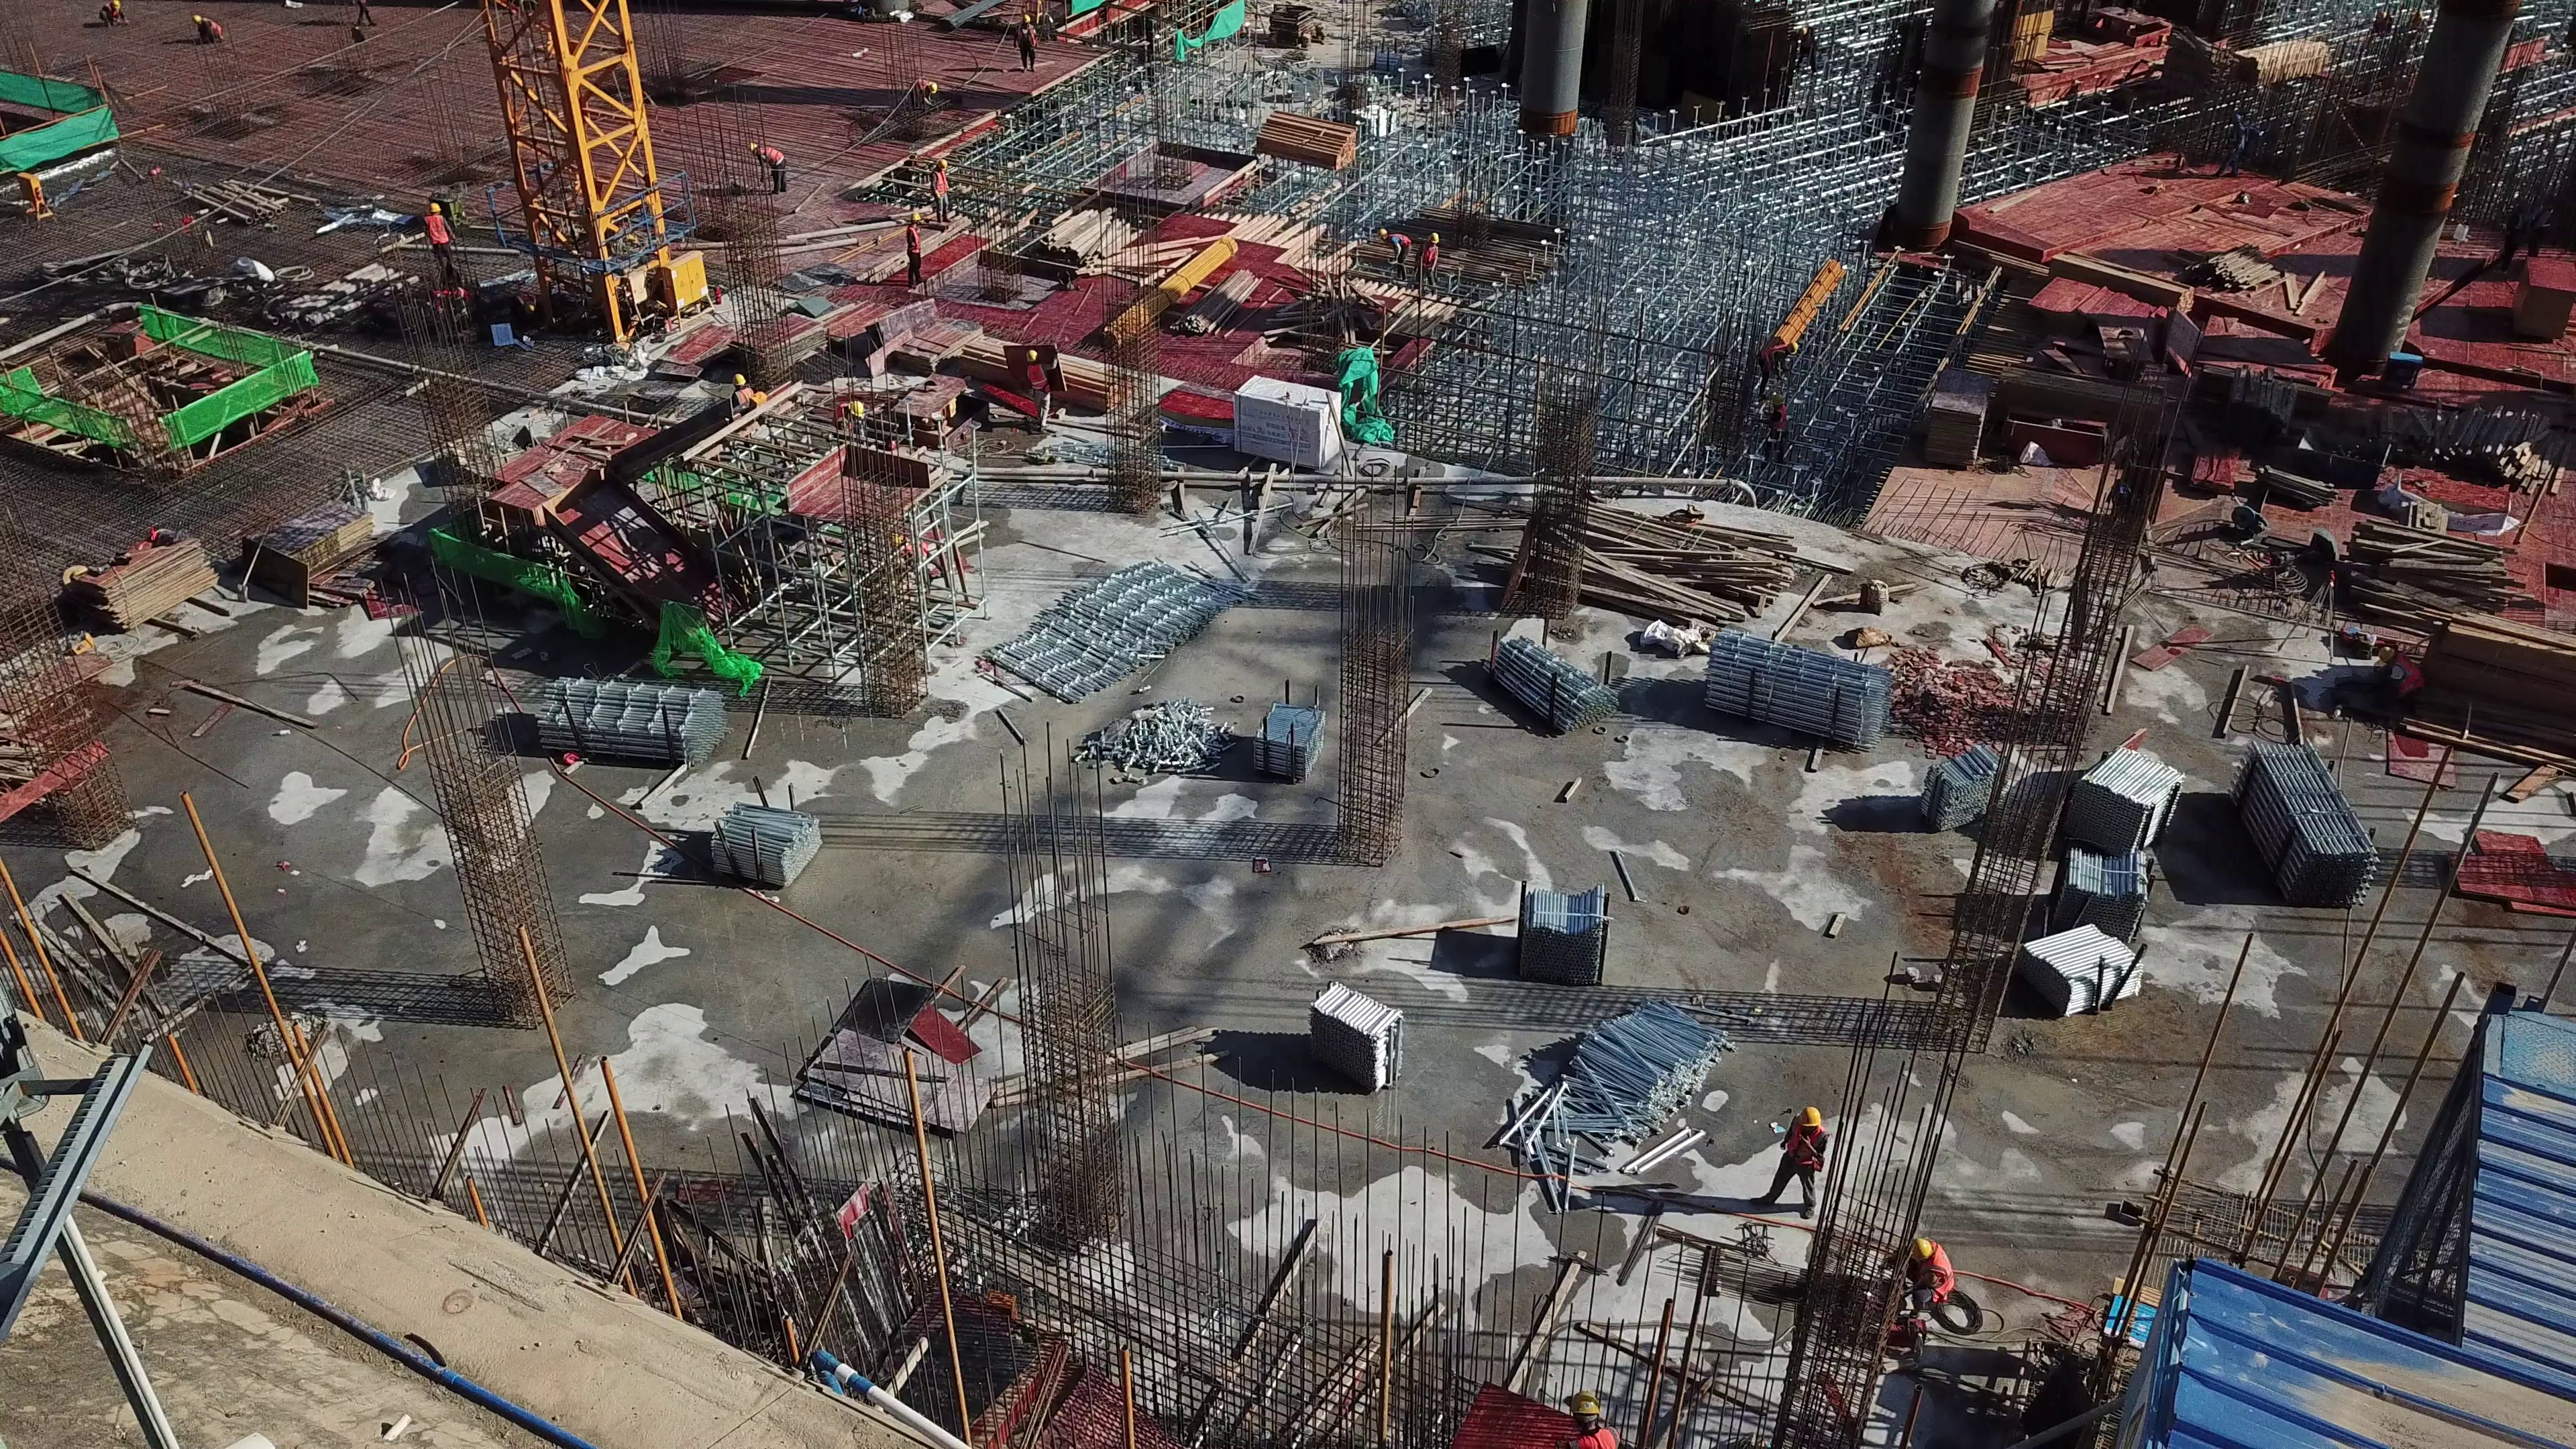board: (240, 504, 384, 608), (75, 543, 222, 637), (1925, 363, 1989, 476), (2506, 252, 2575, 342)
ebox: (655, 247, 707, 332)
person: (1890, 1214, 1951, 1348), (2366, 623, 2430, 739), (1770, 1091, 1823, 1220), (1546, 1387, 1625, 1449), (1019, 345, 1058, 455), (425, 193, 461, 292), (895, 208, 930, 301), (1371, 223, 1426, 281), (747, 141, 793, 208), (1411, 226, 1450, 296), (178, 1, 225, 56), (1006, 7, 1040, 79), (831, 388, 867, 435), (927, 158, 959, 205)
scaffold: (960, 535, 1222, 698), (1517, 996, 1707, 1183), (1704, 643, 1890, 774), (2243, 736, 2371, 897), (514, 675, 700, 759), (2072, 737, 2173, 856), (1482, 623, 1590, 727), (2023, 928, 2147, 1018), (1311, 982, 1409, 1095), (700, 802, 820, 892), (1507, 890, 1607, 987), (2041, 843, 2157, 923), (1930, 739, 2012, 838), (1262, 693, 1329, 775)
wood: (2336, 515, 2576, 773), (1511, 488, 1799, 654), (2400, 403, 2576, 492), (983, 193, 1131, 275), (2196, 246, 2333, 315), (1254, 110, 1357, 174), (2229, 38, 2335, 89), (2222, 374, 2292, 450)
